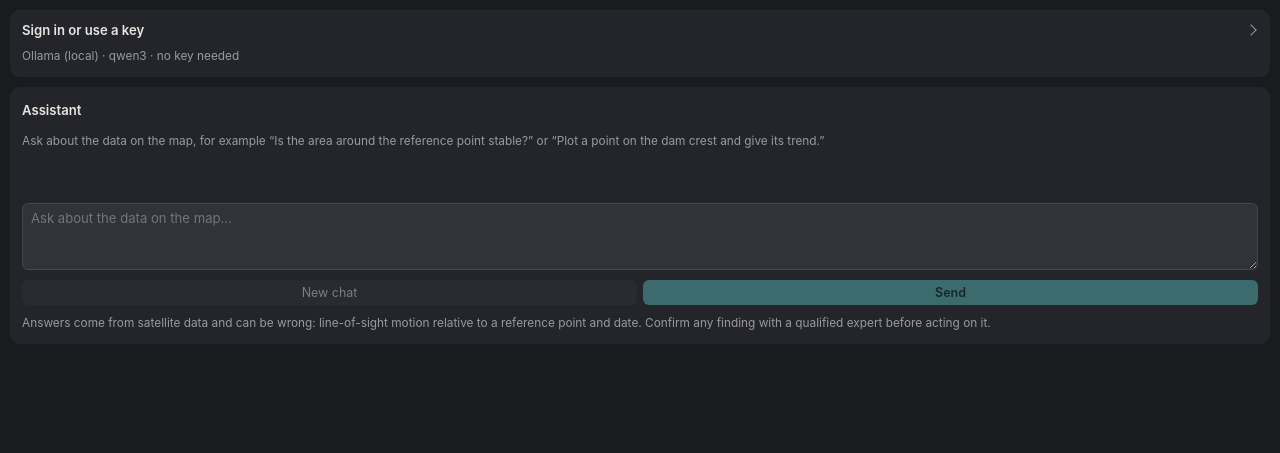
Test: AssistantTab › streams an answer whose tools put points on the map and chart
The width and height of the screenshot is (1280, 453).
In the text box named "Question": (640, 237) [22,203,1258,270], type "Is the dam crest moving?"
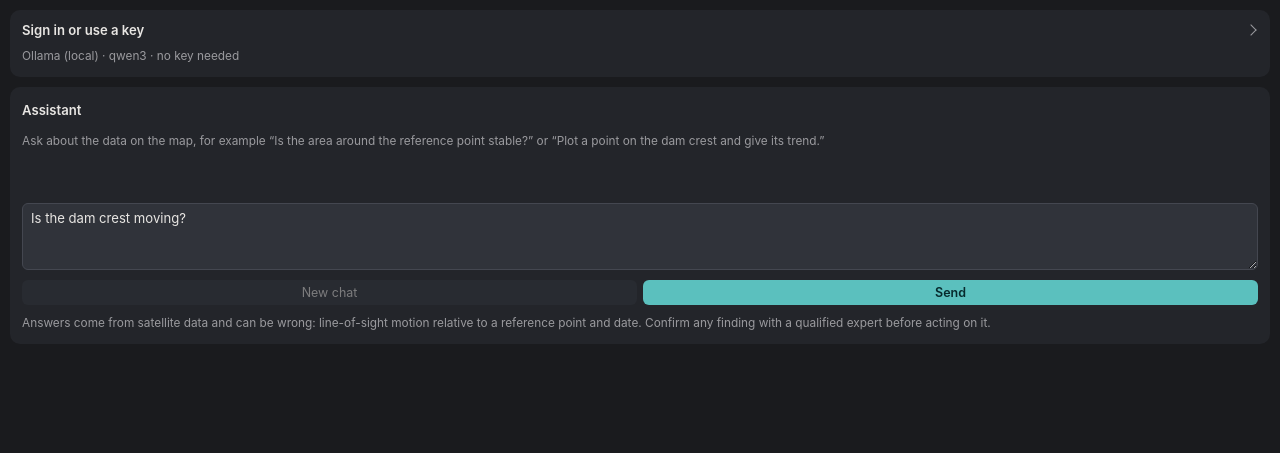
Click the button "Send": click(950, 293) [643,280,1258,305]
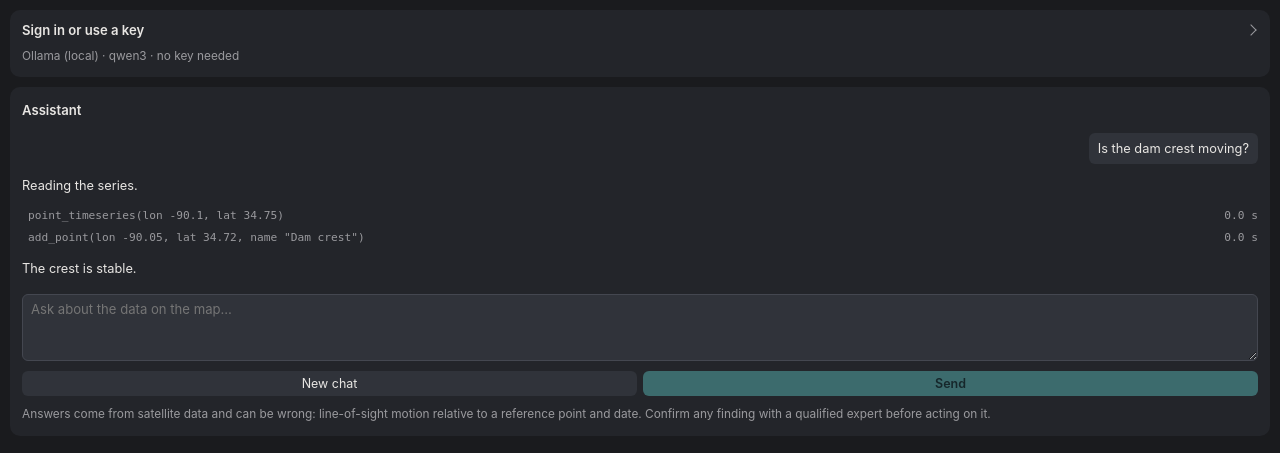
Check: the text "The crest is stable." is shown, box [22,261,136,276]
Check: the text "add_point(lon -90.05, lat 34.72, name \"Dam crest\")" is shown, box [28,230,365,247]
Check: the text "Is the dam crest moving?" is shown, box [1089,133,1258,164]
